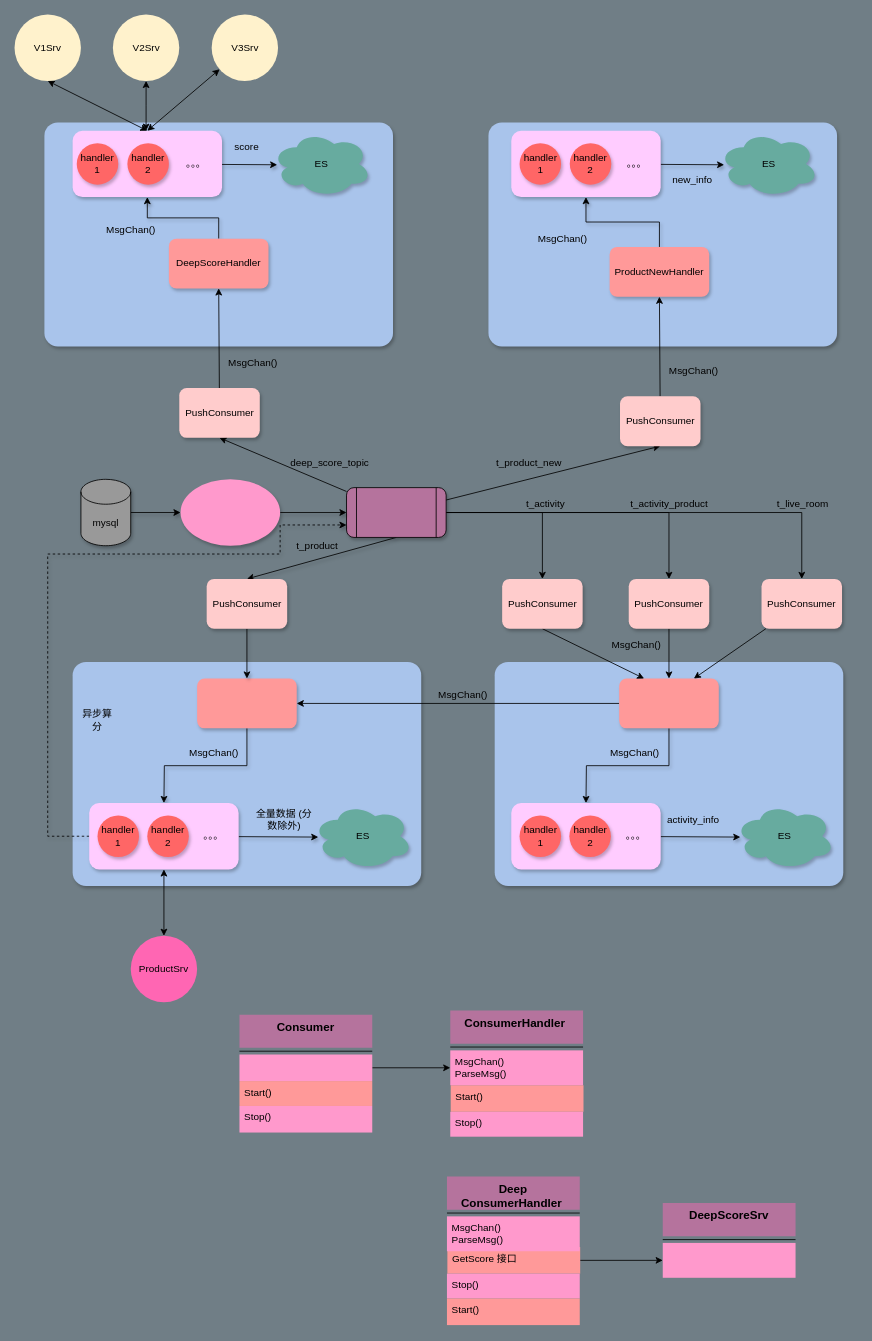
This 872x1341 diagram has some shape labels left out. Each missing label, with the centre of its shape:
ActivityHandler: (x=669, y=704)
canal: (x=231, y=513)
ConsumerHandler 接口: (x=305, y=1067)
GetScore() Name(): (x=728, y=1260)
ProductHandler: (x=247, y=704)
rocketmq: (x=396, y=513)
